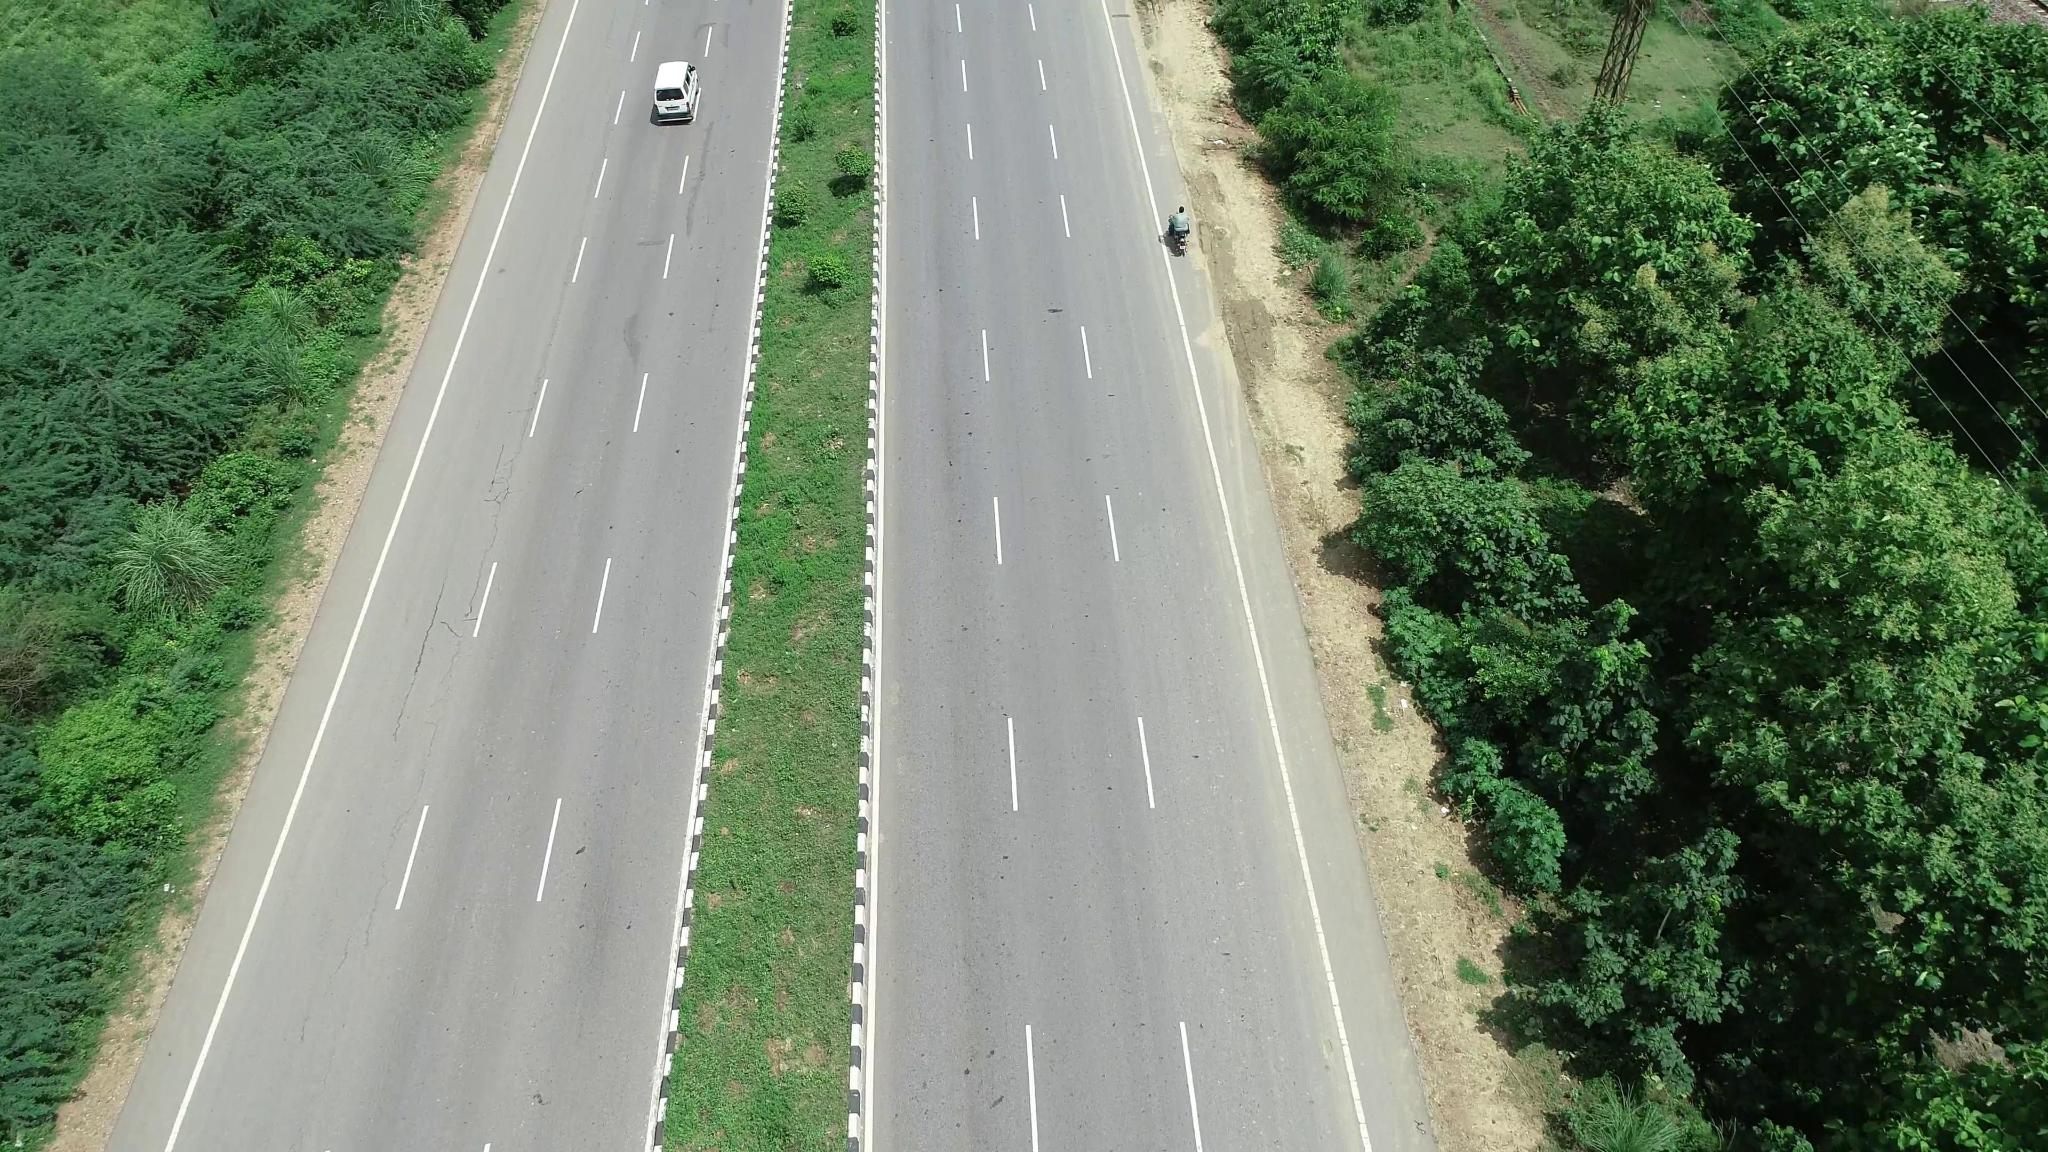Ravelling: (385, 587, 446, 741), (473, 449, 516, 582)
